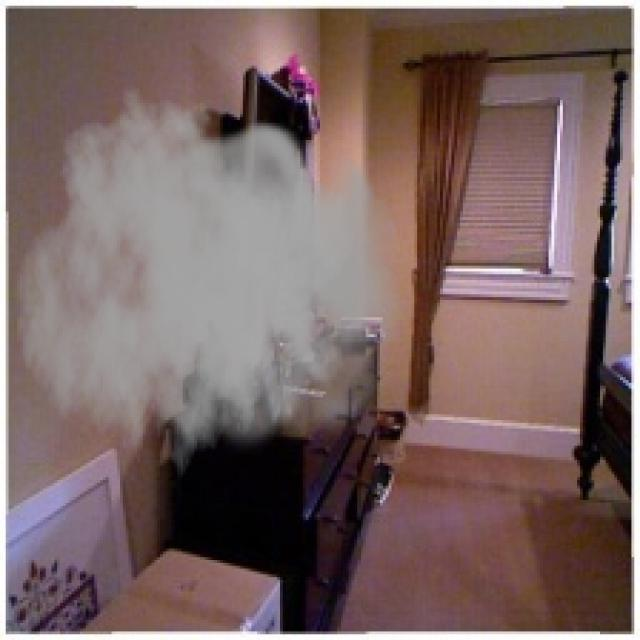Smoke: (14, 86, 403, 497)
